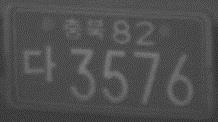2: (136, 19, 155, 47)
3: (67, 48, 96, 100)
5: (101, 49, 129, 103)
6: (167, 54, 194, 106)
7: (133, 50, 160, 105)
8: (112, 18, 131, 45)
다: (23, 46, 55, 80)
충북_O: (64, 18, 105, 42)
